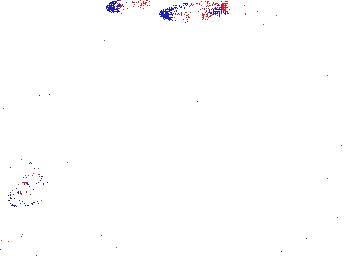X-ray fish: (5, 167, 50, 210)
red belly glassfish: (253, 123, 293, 148)
redtail glassfish: (159, 1, 230, 25)
